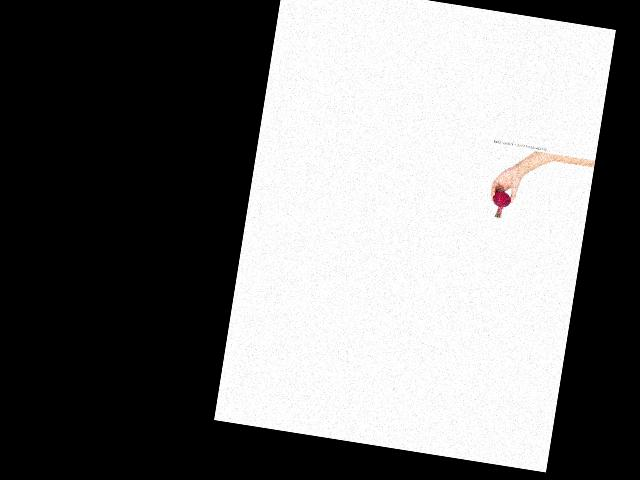beet: (489, 189, 511, 219)
